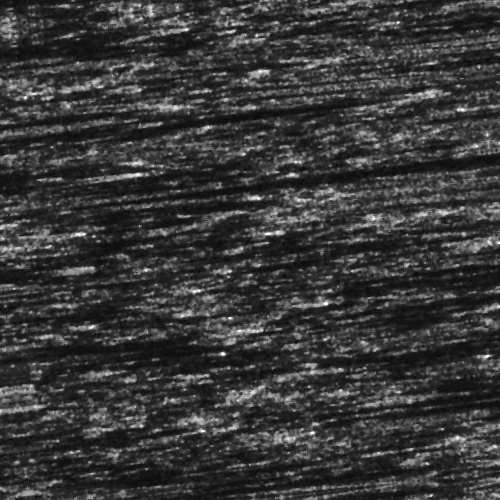object: (0, 203, 132, 218), (138, 322, 273, 333), (223, 29, 296, 42), (392, 109, 475, 116), (83, 155, 166, 162), (158, 14, 221, 23), (28, 240, 91, 249), (419, 483, 500, 490), (0, 188, 51, 199), (137, 92, 210, 99), (0, 373, 63, 380), (28, 301, 101, 306), (272, 308, 345, 313)
shadow: (104, 483, 460, 490), (72, 29, 259, 42), (0, 322, 205, 333), (331, 414, 500, 425), (0, 14, 189, 23), (201, 109, 433, 116), (0, 92, 174, 99), (351, 426, 500, 433), (297, 184, 500, 189), (0, 155, 124, 162), (0, 203, 44, 218), (0, 240, 60, 249), (327, 324, 500, 327), (0, 301, 64, 306), (245, 308, 308, 313), (457, 137, 500, 144)
